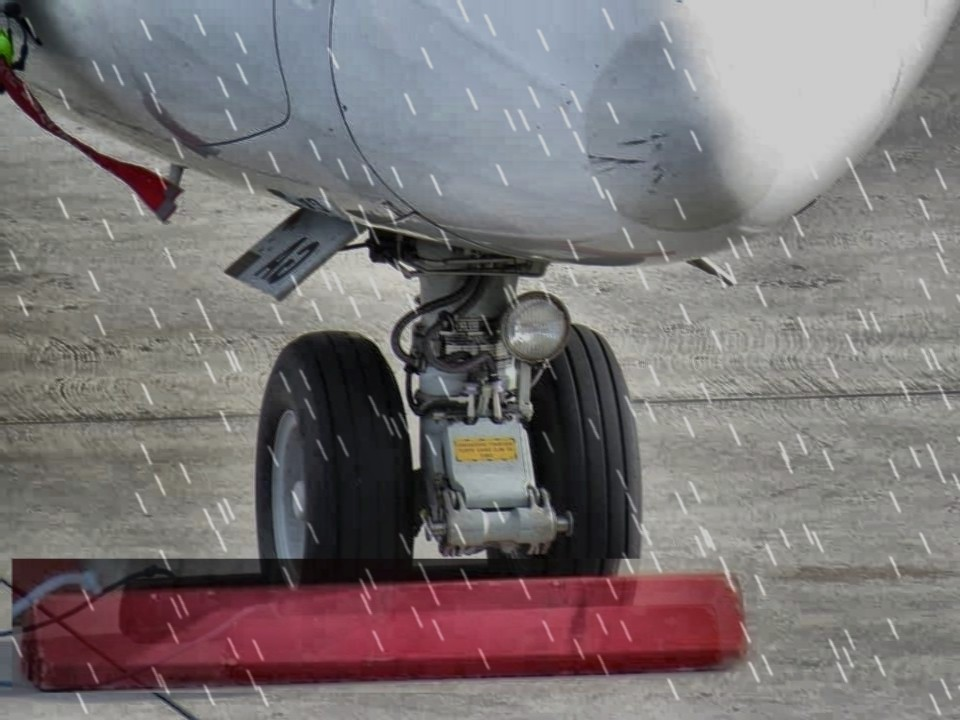chock: (11, 558, 756, 692), (218, 593, 726, 685), (115, 555, 530, 642)
wheel: (254, 328, 415, 618), (494, 318, 642, 608)
